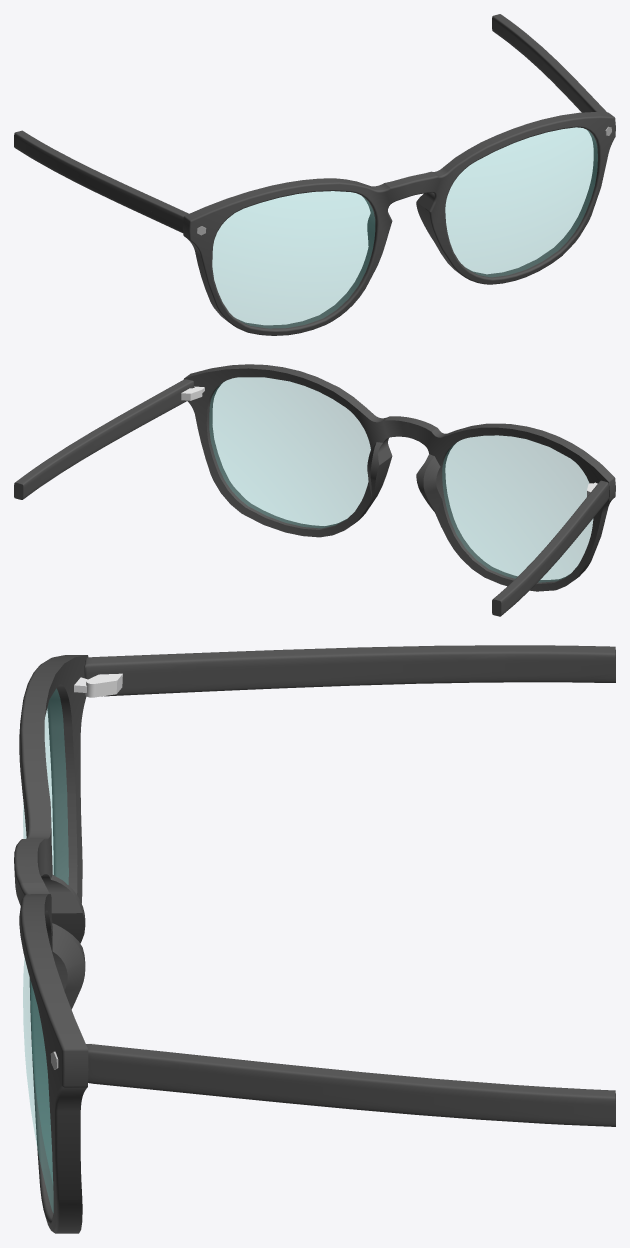
The model's file is eyeglasess_transparent.glb.
3 renders of one model, top to bottom at view 1: azimuth 30°, elevation 25°; view 2: azimuth 150°, elevation 25°; view 3: azimuth 270°, elevation 25°, orthographic. The views are drawn at different scales.
Visible parts, largest first — view 1: main, rightEar, leftEar; view 2: main, leftEar, rightEar; view 3: main, leftEar, rightEar.
Part boxes in pixels (x1,y1,x2,y2): main: (151, 95, 615, 335); rightEar: (14, 130, 159, 218); leftEar: (492, 14, 590, 112); main: (153, 364, 615, 591); leftEar: (14, 397, 161, 499); rightEar: (492, 502, 591, 616); main: (14, 653, 181, 1233); leftEar: (181, 1053, 615, 1126); rightEar: (181, 645, 615, 692).
Size of the model in its own units: 2.16 by 0.6519 by 1.21.
Materials: 4 (1 with a texture image).
